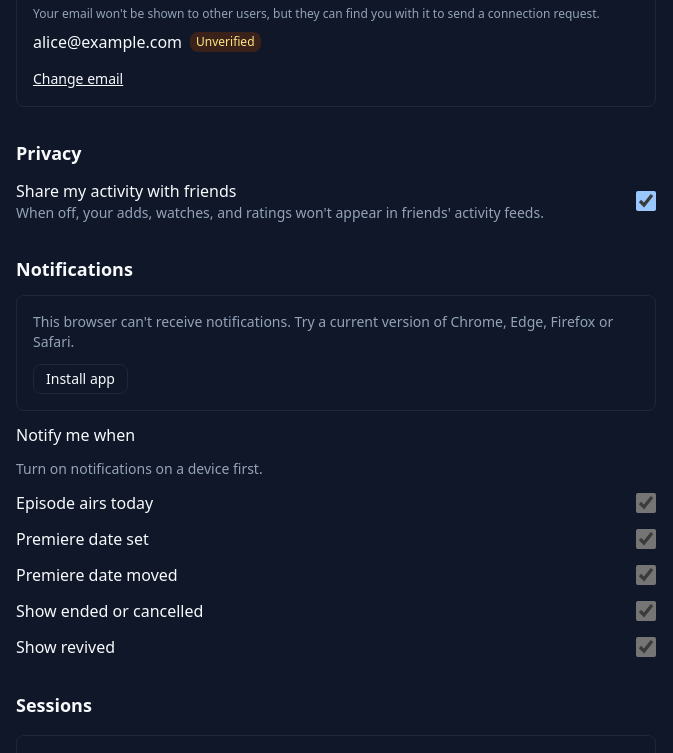
Test: Settings → Notifications Install app button › appears once beforeinstallprompt is captured, and prompts from its click
(page scrolled)
expect the text "can't receive notifications" is shown: met, box x1=33 y1=312 x2=613 y2=351
Click the button "Install app" at (80, 379), box x1=33 y1=364 x2=128 y2=394
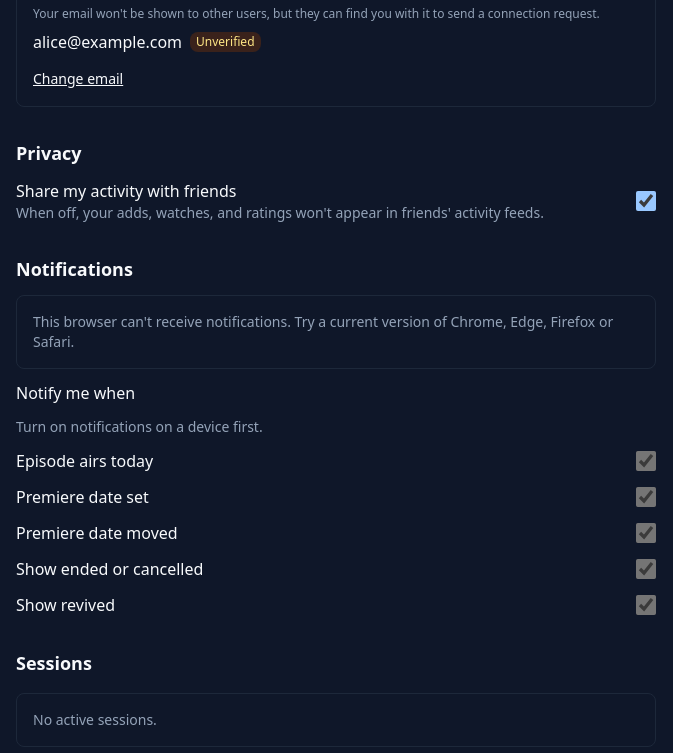
expect the button "Install app" is gone: met
